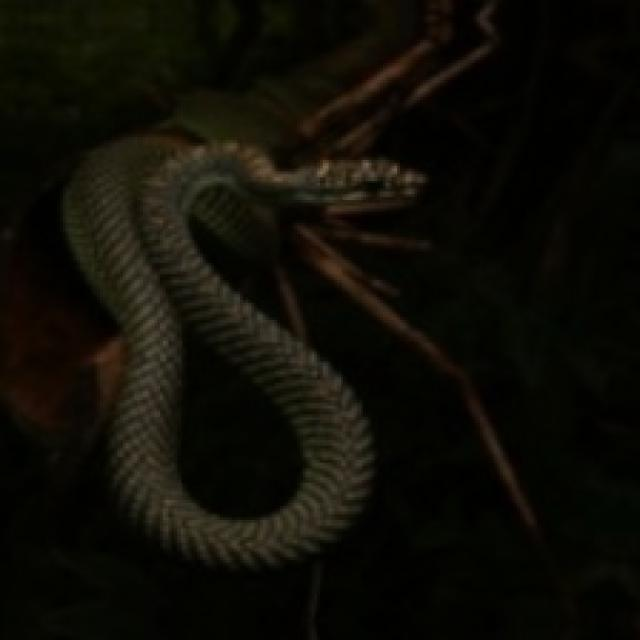paradise tree snake: (63, 0, 540, 566), (63, 137, 371, 566), (174, 323, 303, 517), (174, 329, 303, 517), (174, 331, 303, 517)
